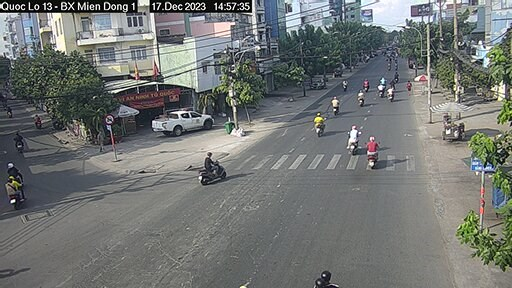car: (145, 104, 217, 134)
motorbike: (358, 128, 383, 163), (198, 150, 225, 182), (349, 116, 364, 158), (347, 90, 369, 108), (309, 116, 328, 134), (329, 97, 346, 116)
